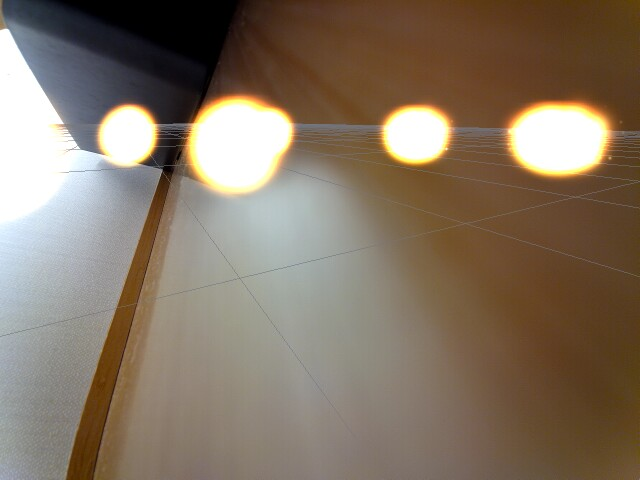firebig: (183, 87, 272, 197)
